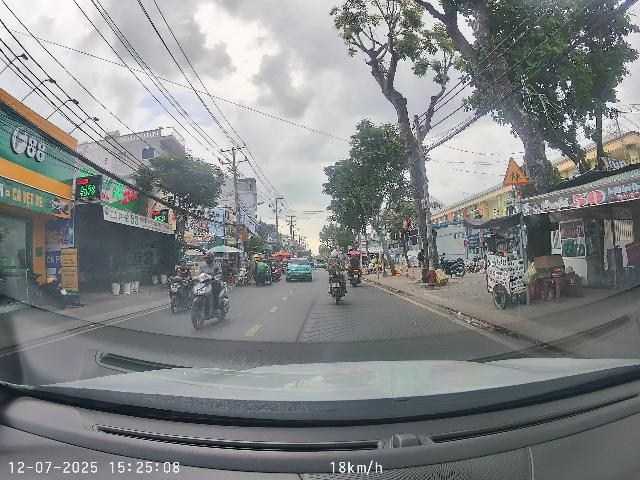225-chu-y-tre-em: (503, 157, 529, 186)
